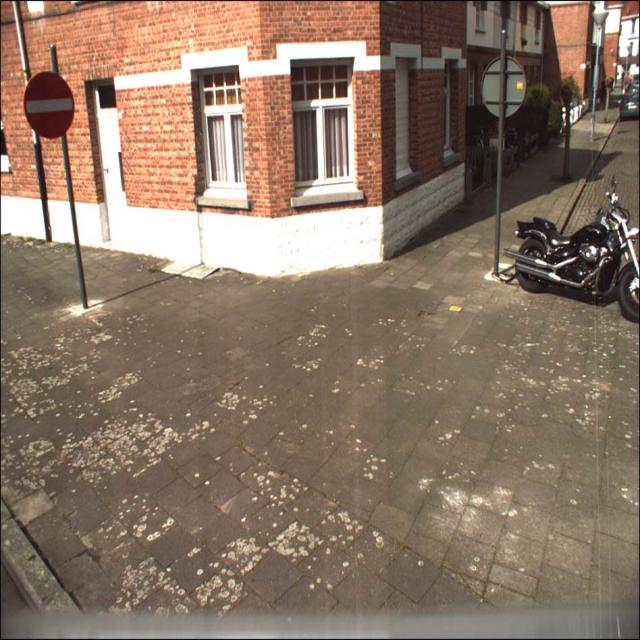girisyok: (24, 73, 75, 139)
